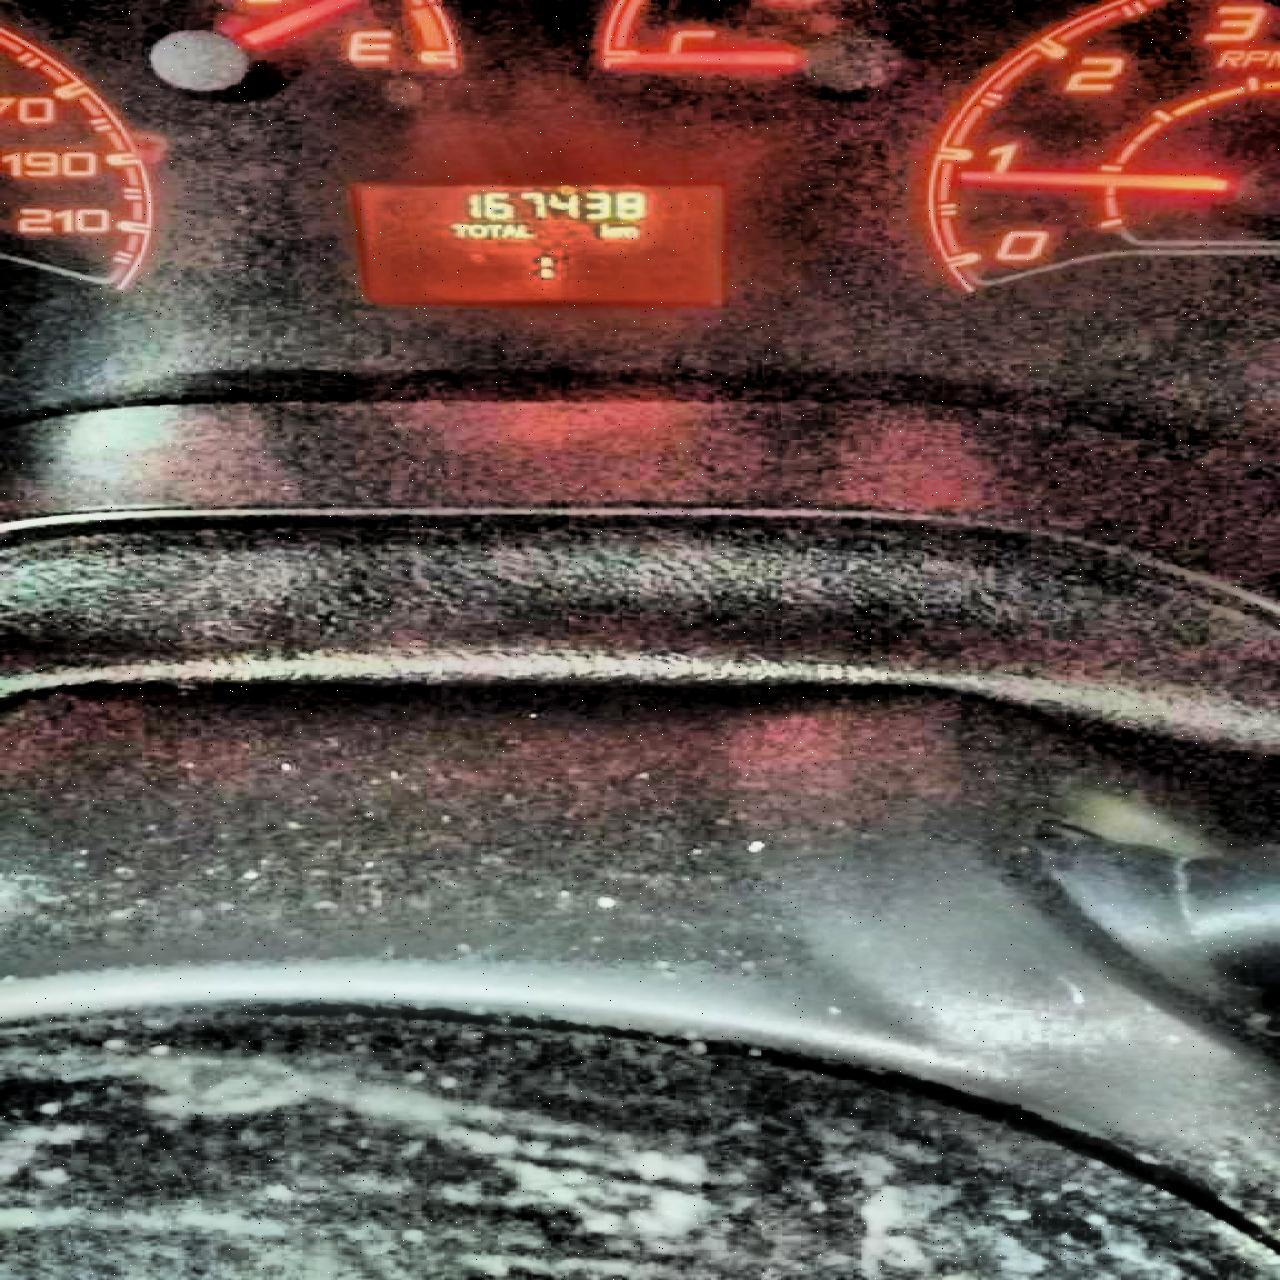1: (462, 191, 481, 219)
3: (580, 190, 610, 219)
4: (544, 191, 578, 219)
6: (481, 191, 516, 219)
7: (516, 190, 545, 219)
8: (611, 190, 647, 220)
X: (536, 256, 553, 279), (444, 222, 467, 238), (513, 222, 533, 239), (593, 223, 613, 238), (613, 225, 638, 237), (467, 223, 484, 238), (498, 223, 513, 238), (484, 223, 498, 238)
odometer: (345, 181, 729, 306)
